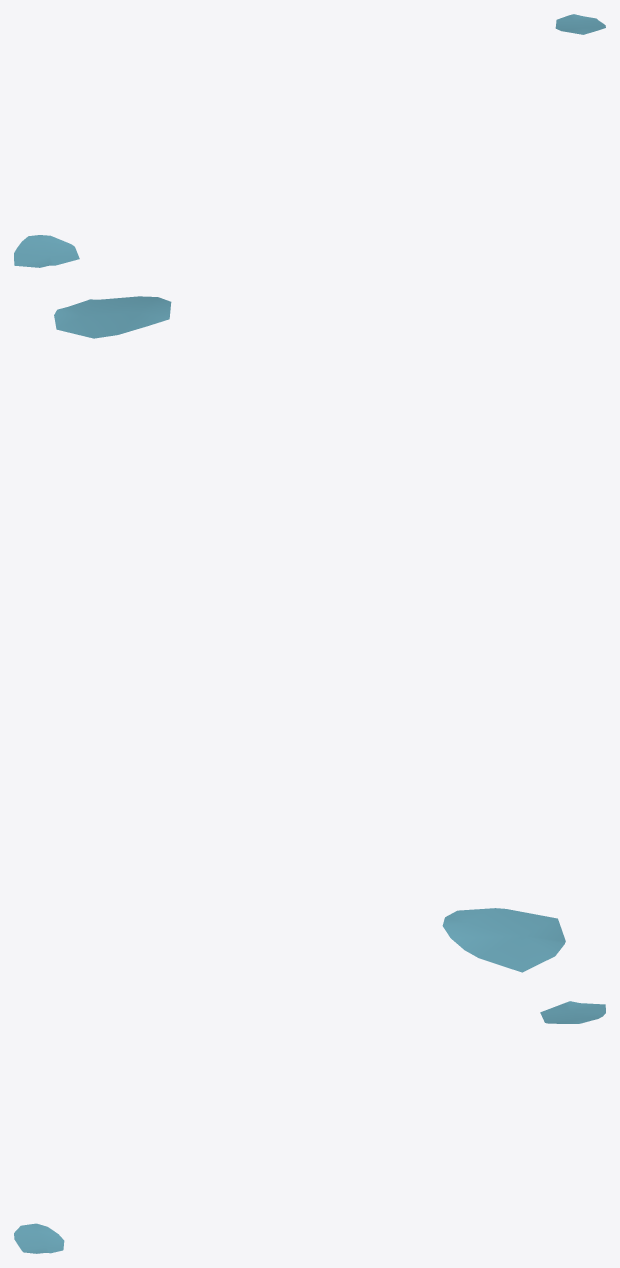
File: cluster_4.fbx
3 renders of one model, top to bottom at view 1: azimuth 90°, elevation 25°; view 2: azimuth 150°, elevation 25°; view 3: azimuth 270°, elevation 25°, orthographic. The views are drawn at different scales.
Visible parts, largest first — view 1: cluster_4; view 2: cluster_4; view 3: cluster_4.
Boxes of the visible parts, <box> form: cluster_4: <box>14,14,605,267</box>; cluster_4: <box>54,296,565,972</box>; cluster_4: <box>14,1001,605,1253</box>.
Bounding box in the file's own units: 672699 × 9704 × 668432.
